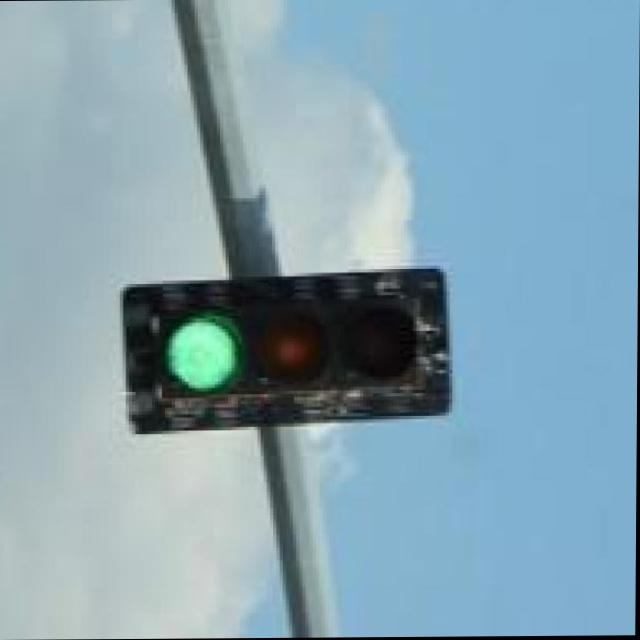green light: (153, 299, 417, 394)
